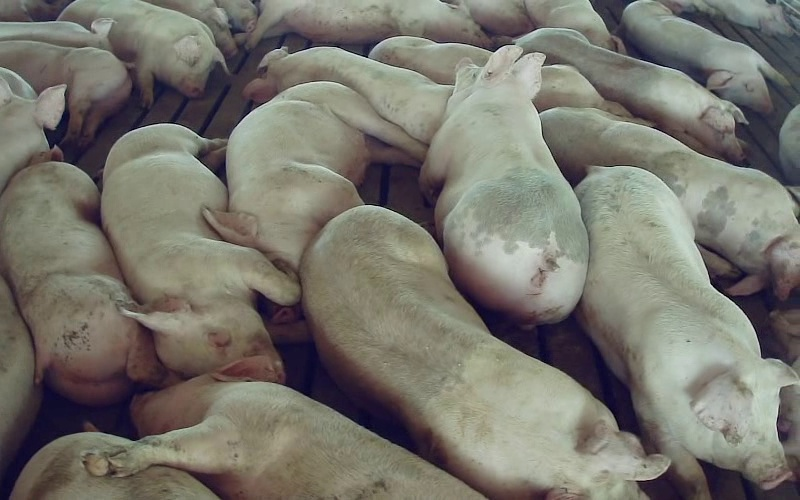pig: (300, 206, 665, 499), (575, 167, 796, 499), (84, 353, 483, 499), (541, 107, 799, 299), (419, 46, 588, 325), (0, 148, 179, 405), (204, 82, 426, 272), (516, 28, 745, 161), (243, 47, 452, 143), (621, 0, 788, 113), (59, 0, 227, 107), (245, 0, 490, 48), (0, 18, 113, 51)
